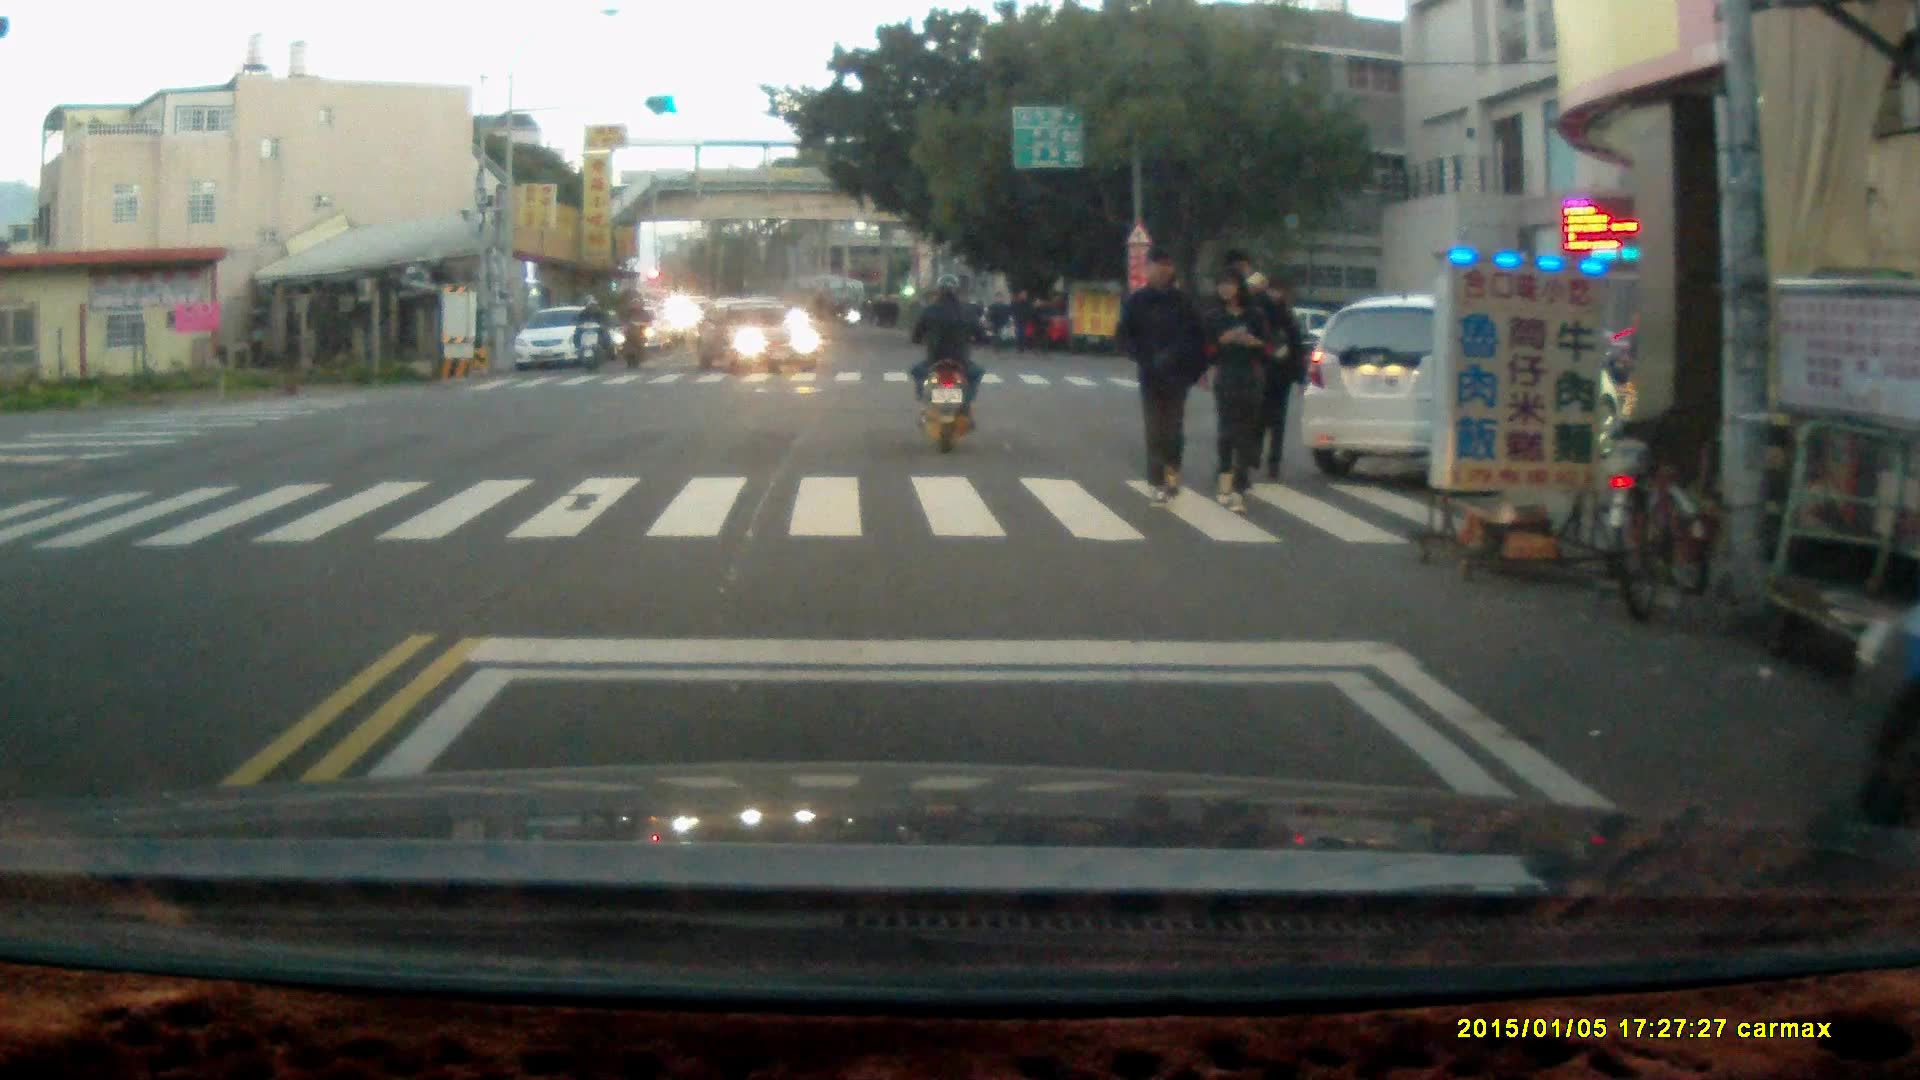pedestrian: (1113, 243, 1209, 508), (1204, 267, 1277, 518), (1009, 283, 1035, 358), (1026, 293, 1053, 360), (988, 287, 1012, 357)
rider: (911, 267, 983, 455), (621, 290, 655, 370), (575, 292, 607, 371)
vehicle: (1310, 303, 1634, 485), (691, 296, 828, 375), (516, 308, 610, 372)
